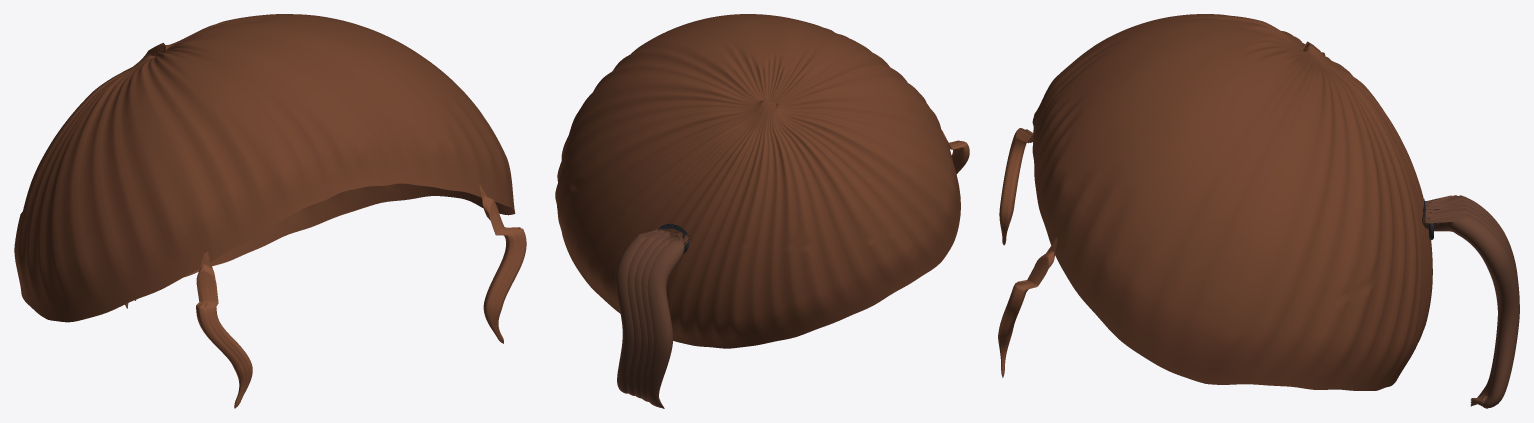
The model's file is Feminine-ponytail-beanie251-hair.glb.
3 views of the same model, side by side, from view 1: azimuth 30°, elevation 25°; view 2: azimuth 150°, elevation 25°; view 3: azimuth 270°, elevation 25° (orthographic). The views are drawn at different scales.
Visible parts, largest first — view 1: 226 hair / Hair / crisp pulled roots220.002, 226 hair / Hair / sculpted front locks222.002; view 2: 226 hair / Hair / crisp pulled roots220.002, 226 hair / Hair / chestnut226.001, 226 hair / Hair / sculpted front locks222.002; view 3: 226 hair / Hair / crisp pulled roots220.002, 226 hair / Hair / chestnut226.001, 226 hair / Hair / sculpted front locks222.002.
Boxes of the visible parts, box(x1,y1,x2,y2) form: 226 hair / Hair / crisp pulled roots220.002: box(14, 14, 515, 322); 226 hair / Hair / sculpted front locks222.002: box(196, 184, 526, 408); 226 hair / Hair / crisp pulled roots220.002: box(555, 14, 960, 348); 226 hair / Hair / chestnut226.001: box(615, 228, 690, 408); 226 hair / Hair / sculpted front locks222.002: box(941, 130, 969, 173); 226 hair / Hair / crisp pulled roots220.002: box(1032, 14, 1432, 390); 226 hair / Hair / chestnut226.001: box(1422, 195, 1519, 408); 226 hair / Hair / sculpted front locks222.002: box(998, 128, 1057, 377).
Bounding box in the file's own units: 0.9675 × 0.7594 × 0.9657.
